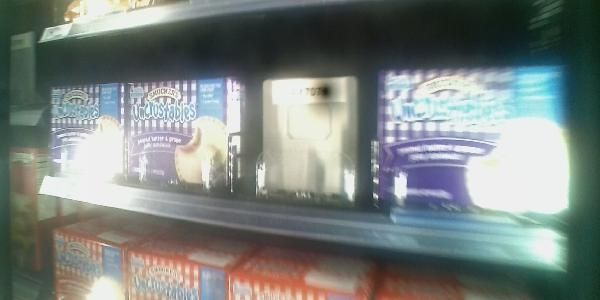icecream: (378, 65, 568, 209), (124, 80, 232, 194), (47, 83, 123, 183)
